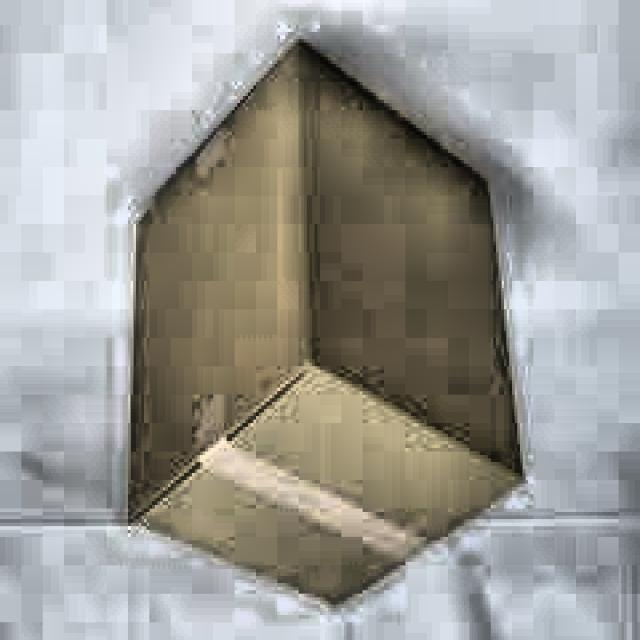cardboard: (125, 43, 526, 615)
